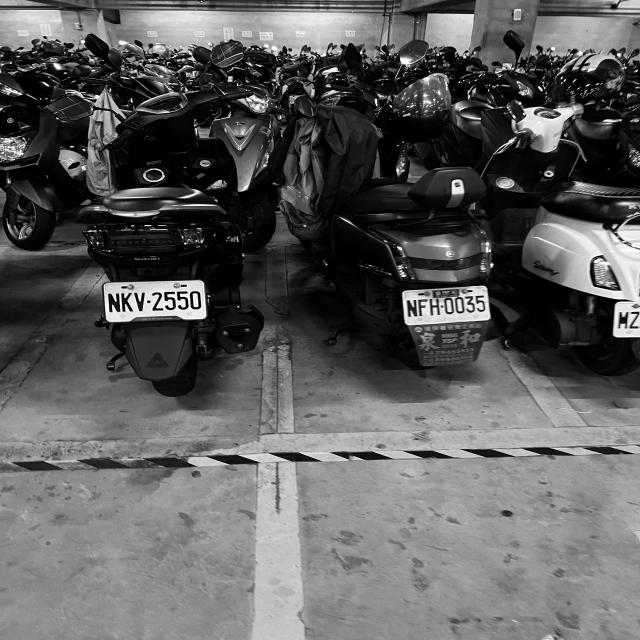-: (439, 304, 444, 308), (146, 300, 150, 304)
0: (188, 290, 202, 310), (443, 298, 455, 314), (455, 297, 465, 314)
2: (152, 291, 164, 311)
3: (464, 296, 476, 312)
5: (177, 291, 190, 310), (164, 292, 176, 310), (476, 296, 486, 312)
F: (418, 298, 428, 316)
H: (428, 298, 441, 316)
K: (121, 292, 133, 312)
M: (618, 312, 628, 328)
N: (108, 292, 120, 313), (406, 299, 418, 317)
V: (134, 292, 146, 312)
Z: (630, 311, 640, 329)
plate: (104, 284, 206, 320), (404, 291, 489, 321)
